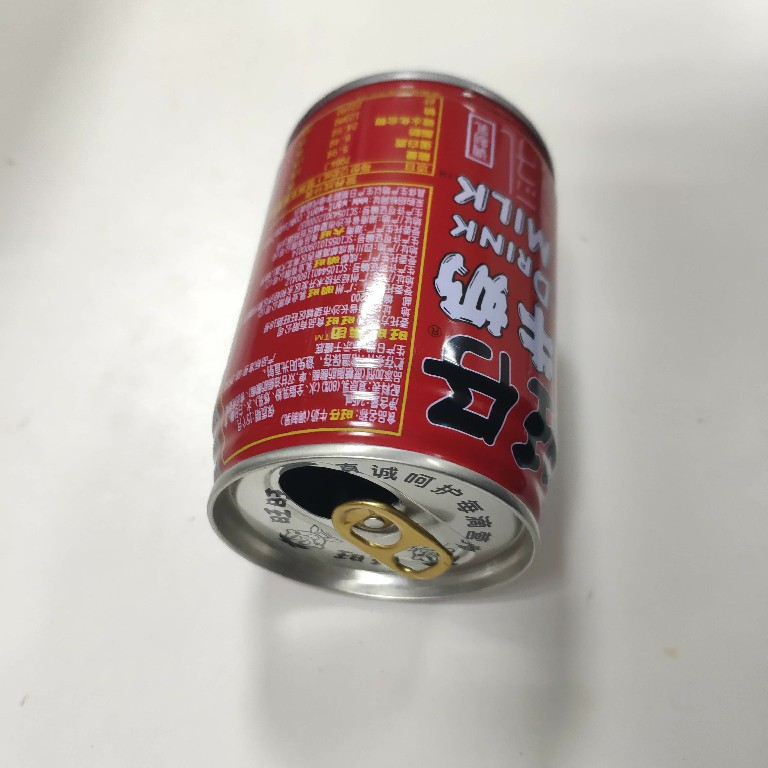can: (200, 66, 566, 611)
